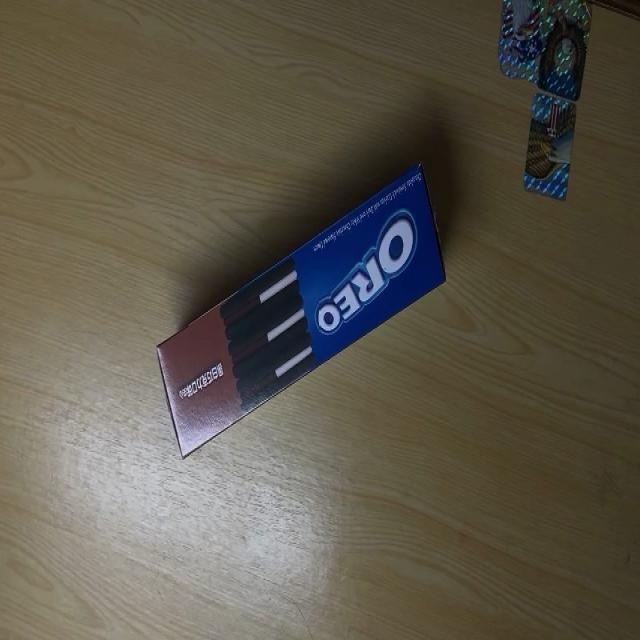Oreo: (154, 157, 448, 460)
